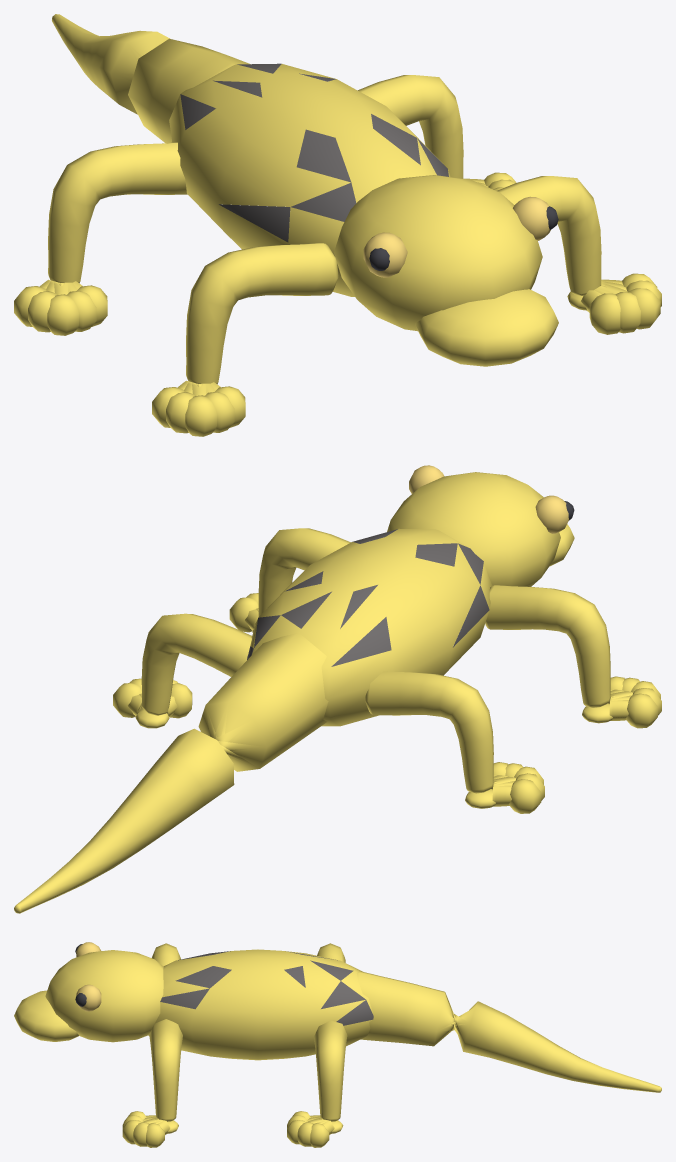
File: reptiles-amphibians-and-minibeasts-leopard-gecko-51132cf8__22425.glb
3 renders of one model, top to bottom at view 1: azimuth 30°, elevation 25°; view 2: azimuth 150°, elevation 25°; view 3: azimuth 270°, elevation 25°, orthographic. The views are drawn at different scales.
Visible parts, largest first — view 1: leopard-gecko; view 2: leopard-gecko; view 3: leopard-gecko.
Part boxes in pixels (bbox=[...]): leopard-gecko: bbox=[14, 14, 661, 436]; leopard-gecko: bbox=[14, 465, 661, 913]; leopard-gecko: bbox=[14, 942, 661, 1147].
Bounding box in the file's own units: 0.1214 × 0.0481 × 0.23.
